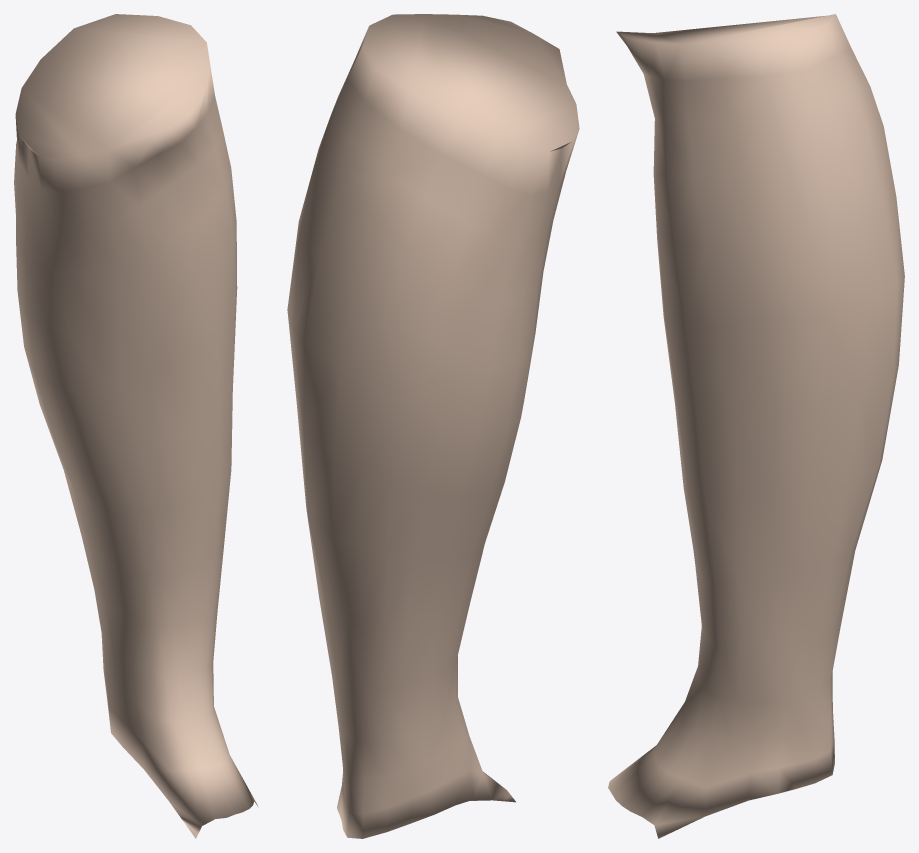
The model's file is right_lower_leg.dae.
3 renders of one model, left to right at view 1: azimuth 30°, elevation 25°; view 2: azimuth 150°, elevation 25°; view 3: azimuth 270°, elevation 25°, orthographic. The views are drawn at different scales.
Visible parts, largest first — view 1: right-lower-leg; view 2: right-lower-leg; view 3: right-lower-leg.
Part boxes in pixels (bbox=[...]): right-lower-leg: bbox=[14, 14, 257, 838]; right-lower-leg: bbox=[287, 14, 579, 838]; right-lower-leg: bbox=[608, 14, 904, 838].
Size of the model in its own units: 0.1184 by 0.135 by 0.395.
